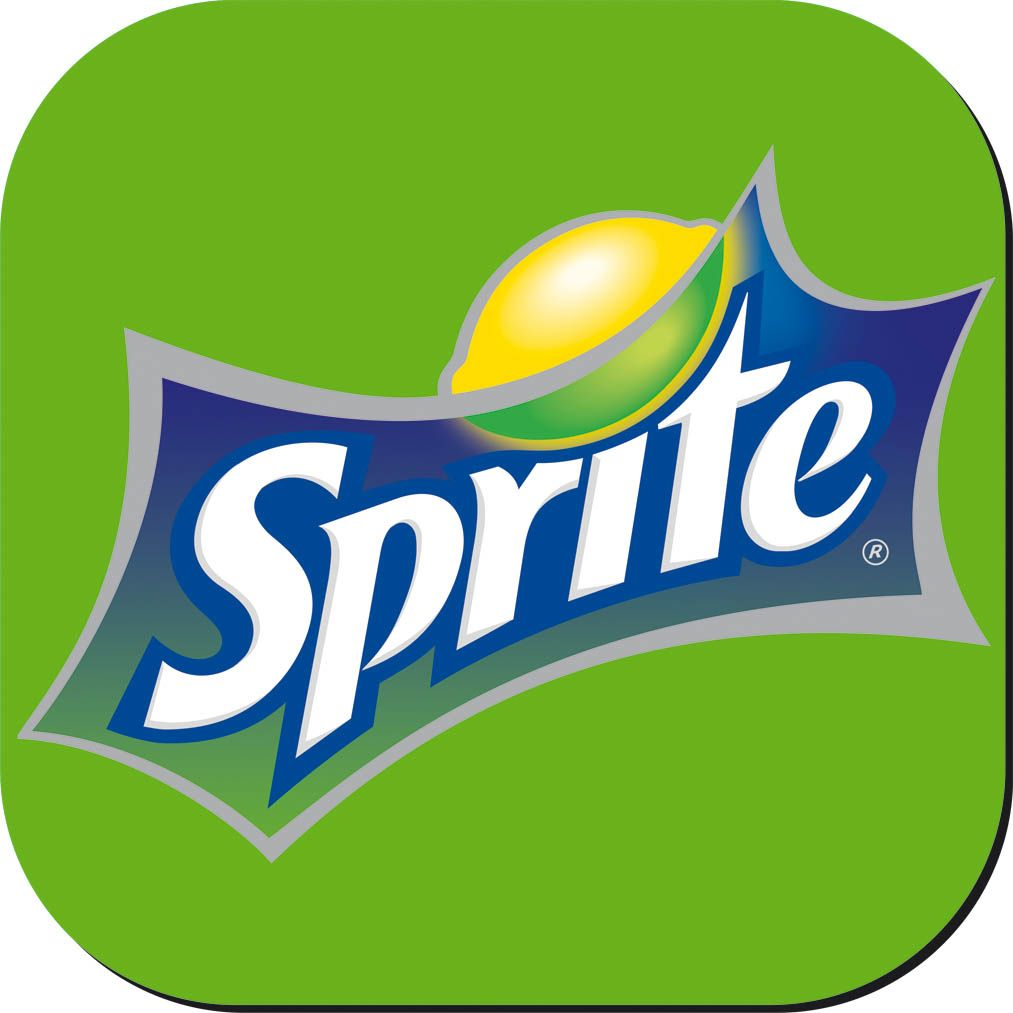sprite: (141, 287, 872, 761)
